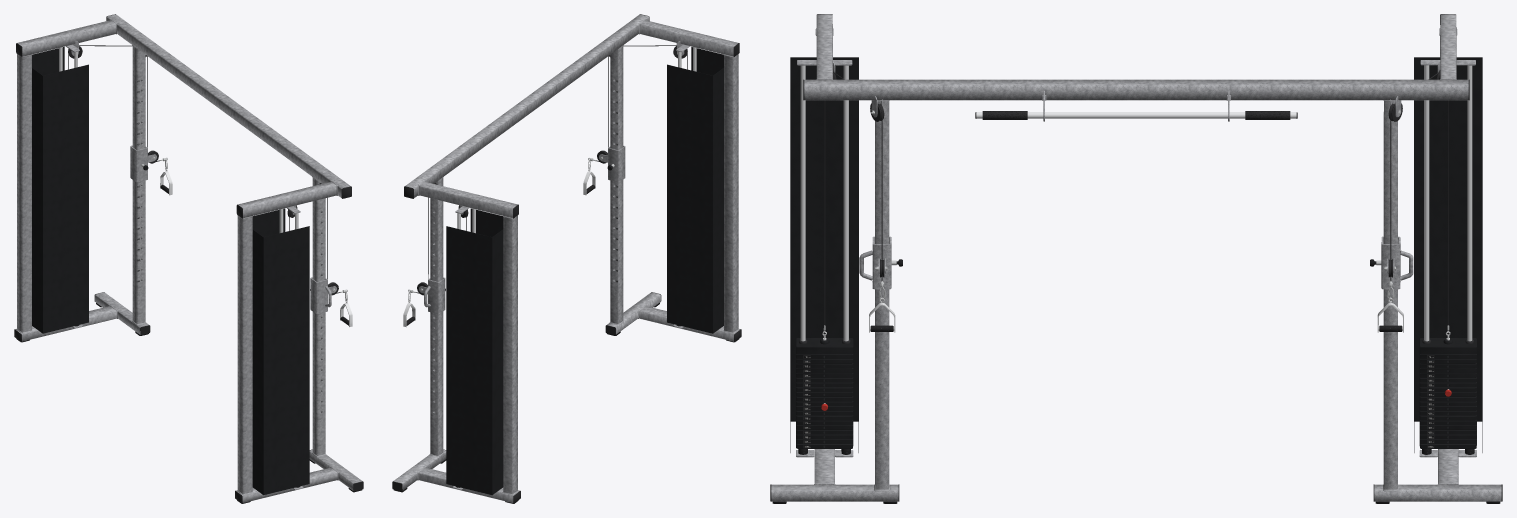
The model's file is real_cable_crossover.glb.
3 views of the same model, side by side, from view 1: azimuth 30°, elevation 25°; view 2: azimuth 150°, elevation 25°; view 3: azimuth 270°, elevation 25° (orthographic). The views are drawn at different scales.
Parts seen in each view (by area): view 1: L Carriage pop pin, Front top crossbar, L Cable eye bolts, Crossbar End cap; view 2: L Carriage pop pin, Front top crossbar, L Cable eye bolts, Crossbar End cap; view 3: Front top crossbar, L Carriage pop pin, L Head plate, L Cable eye bolts, L Crossover cable, L Position number, Pull-up grip (foam).
Boxes of the visible parts, x1=… form: L Carriage pop pin: x1=32, y1=47, x2=310, y2=495; Front top crossbar: x1=15, y1=14, x2=362, y2=502; L Cable eye bolts: x1=59, y1=47, x2=352, y2=326; Crossbar End cap: x1=14, y1=14, x2=363, y2=503; L Carriage pop pin: x1=445, y1=47, x2=723, y2=495; Front top crossbar: x1=393, y1=14, x2=740, y2=502; L Cable eye bolts: x1=403, y1=47, x2=696, y2=327; Crossbar End cap: x1=392, y1=14, x2=741, y2=503; Front top crossbar: x1=771, y1=14, x2=1501, y2=501; L Carriage pop pin: x1=790, y1=57, x2=1482, y2=452; L Head plate: x1=796, y1=338, x2=1476, y2=448; L Cable eye bolts: x1=800, y1=65, x2=1472, y2=403; L Crossover cable: x1=824, y1=71, x2=1448, y2=331; L Position number: x1=803, y1=355, x2=1434, y2=448; Pull-up grip (foam): x1=982, y1=111, x2=1290, y2=119.
Size of the model in its own units: 1.04 by 2.25 by 3.57.
14 materials, 7 textured.
